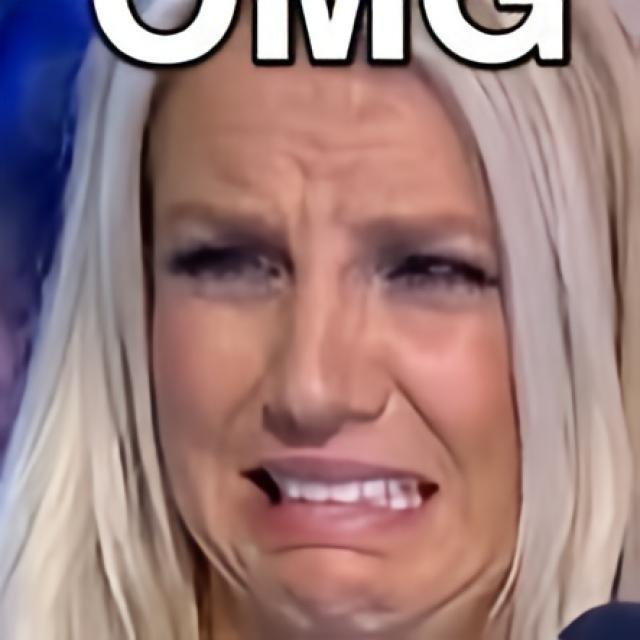disgust: (149, 67, 524, 640)
